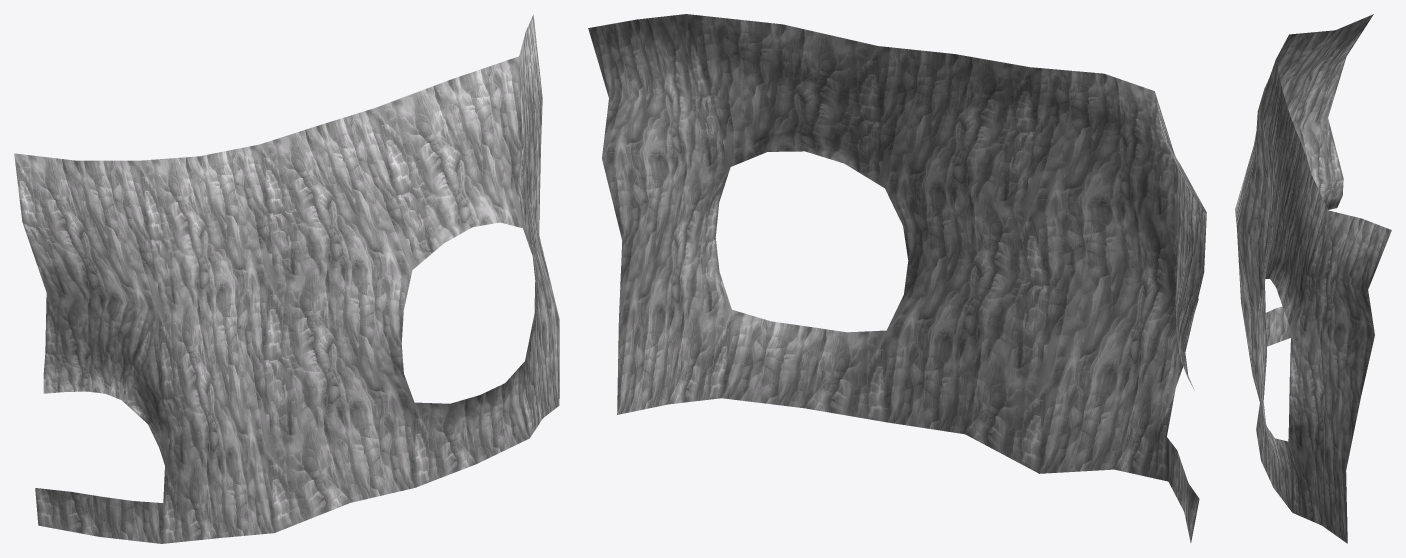
File: SWORDLIGHT20_PS-AREA03_171.fbx
3 renders of one model, left to right at view 1: azimuth 30°, elevation 25°; view 2: azimuth 150°, elevation 25°; view 3: azimuth 270°, elevation 25°, orthographic. The views are drawn at different scales.
Visible parts, largest first — view 1: SWORDLIGHT20_PS-AREA03_171; view 2: SWORDLIGHT20_PS-AREA03_171; view 3: SWORDLIGHT20_PS-AREA03_171.
Part boxes in pixels (left/top/right/bottom): SWORDLIGHT20_PS-AREA03_171: left=14, top=14, right=559, bottom=543; SWORDLIGHT20_PS-AREA03_171: left=588, top=14, right=1206, bottom=542; SWORDLIGHT20_PS-AREA03_171: left=1235, top=14, right=1391, bottom=543.
Bounding box in the file's own units: 319188 × 221273 × 95561.
Materials: 2 (2 with a texture image).
